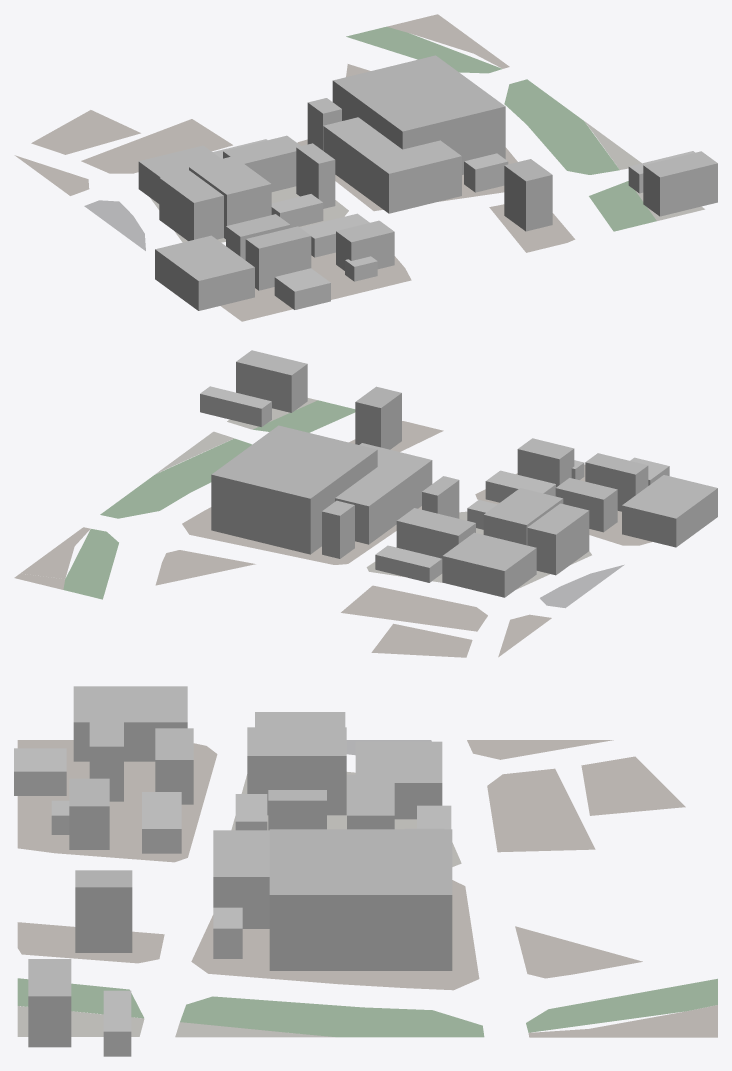
Rendered from 103_89_mid.glb.
The picture shows the model from 3 angles, top to bottom: view 1: azimuth 30°, elevation 25°; view 2: azimuth 150°, elevation 25°; view 3: azimuth 270°, elevation 25°; orthographic projection. The views are drawn at different scales.
Bounding box in the file's own units: 557 × 60.24 × 503.
